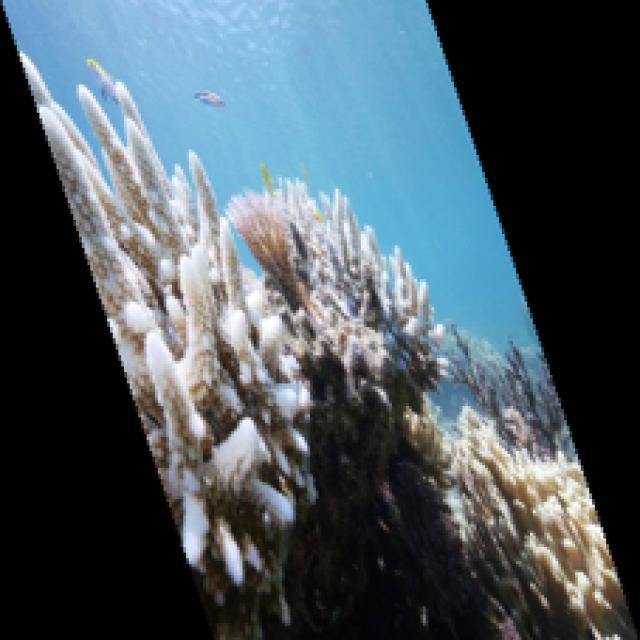Bleached: (16, 54, 317, 627), (457, 406, 640, 640), (284, 179, 452, 404), (227, 190, 297, 289)
